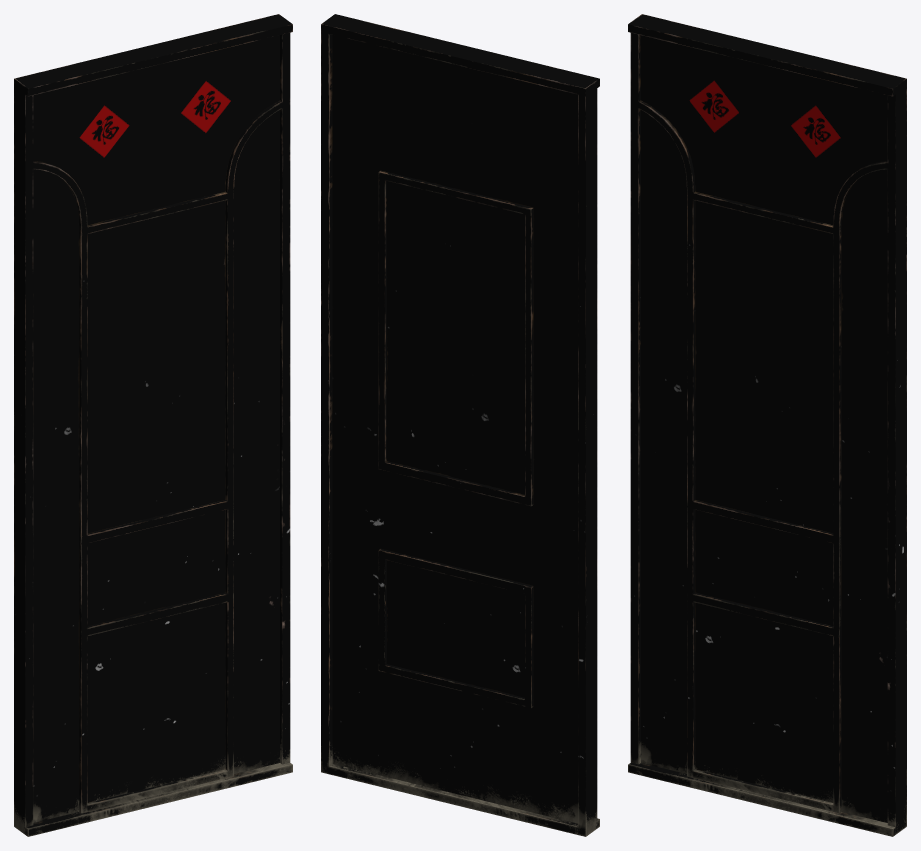
File: blackDoorPivot_left.fbx
3 renders of one model, left to right at view 1: azimuth 30°, elevation 25°; view 2: azimuth 150°, elevation 25°; view 3: azimuth 330°, elevation 25°, orthographic.
Parts seen in each view (by area): view 1: door_low; view 2: door_low; view 3: door_low.
Boxes of the visible parts, bbox=[...] form: door_low: bbox=[14, 14, 292, 836]; door_low: bbox=[321, 14, 599, 836]; door_low: bbox=[628, 14, 906, 836].
Bounding box in the file's own units: 100 × 270 × 9.13.
